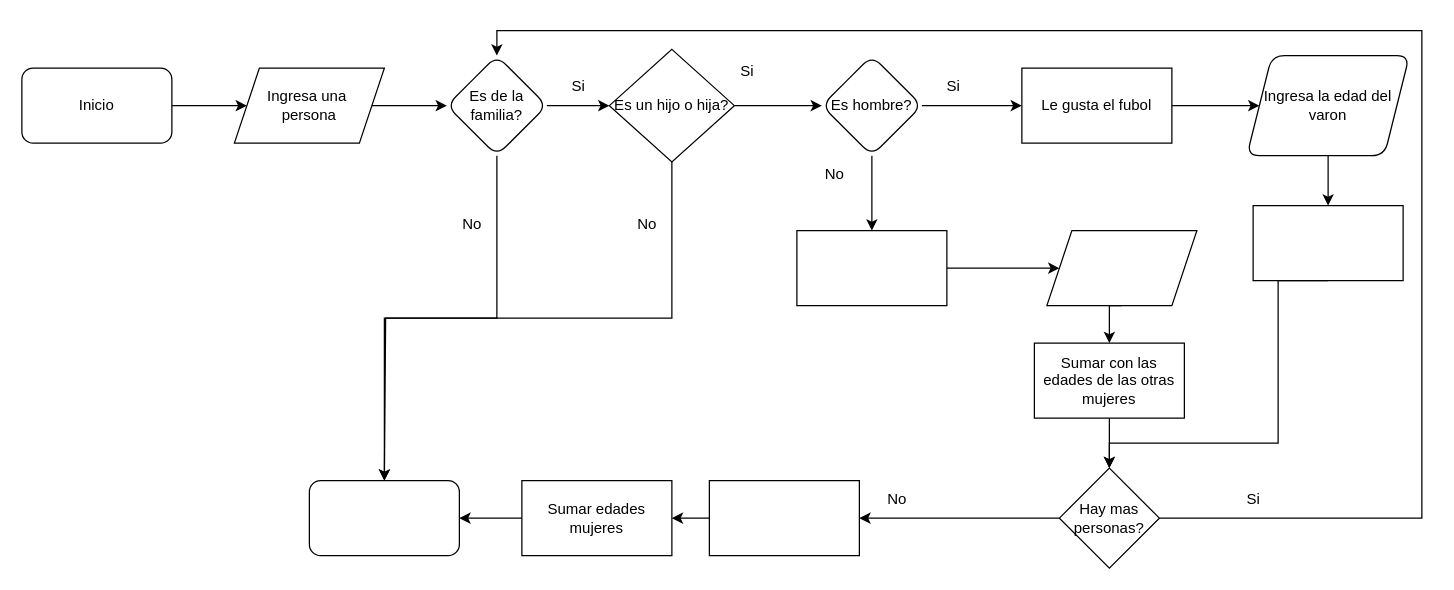
The diagram is 1454 pixels wide and 590 high, and some of its shapes have lost their labels. Here are the shapes that lost their labels. From the top down, the centre of each, then its label:
(1327,242): Sumar con las edades de los otros varones
(871,267): No le gusta el futbol
(1121,267): Ingresa la edad de la mujer
(383,517): Fin
(783,517): Sumar edades varones
